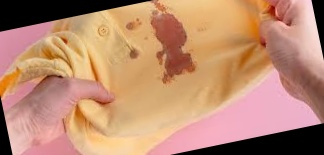blood: (151, 11, 197, 80)
